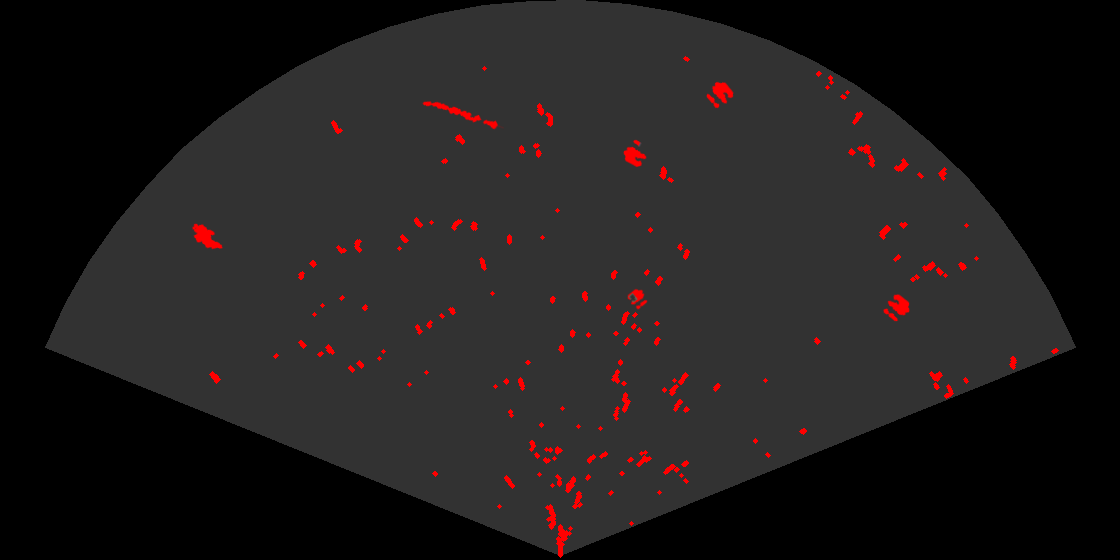AUV: (191, 222, 225, 251)
ball: (705, 80, 735, 110), (882, 293, 911, 323), (622, 138, 648, 169), (626, 287, 649, 311)
chain: (420, 99, 504, 131)
